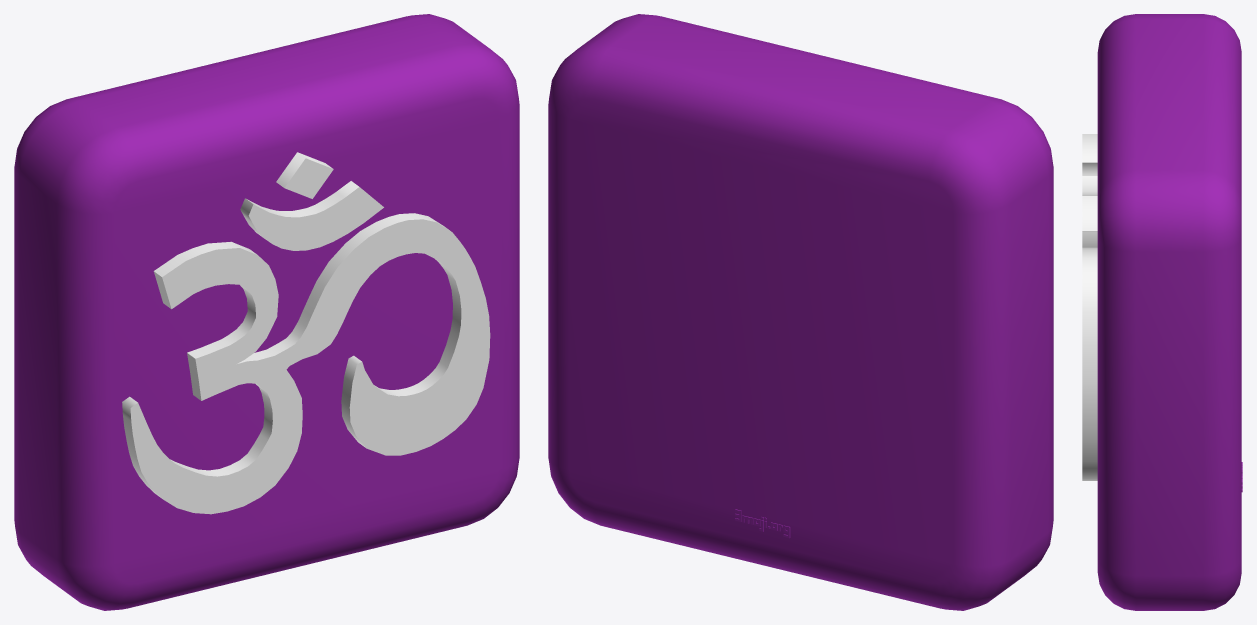
3 renders of one model, left to right at view 1: azimuth 30°, elevation 25°; view 2: azimuth 150°, elevation 25°; view 3: azimuth 270°, elevation 25°, orthographic. The views are drawn at different scales.
Visible parts, largest first — view 1: Cube.6386; view 2: Cube.6386; view 3: Cube.6386.
Part boxes in pixels (bbox=[...]): Cube.6386: bbox=[14, 14, 519, 610]; Cube.6386: bbox=[548, 14, 1053, 610]; Cube.6386: bbox=[1082, 14, 1242, 610].
Bounding box in the file's own units: 220 × 220 × 73.37.
Materials: 1 (1 with a texture image).
